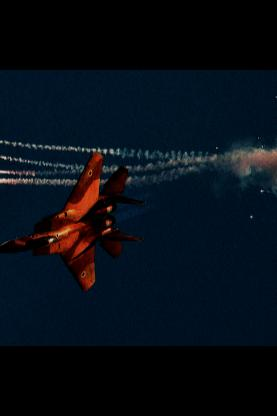F117: (0, 152, 145, 294)
